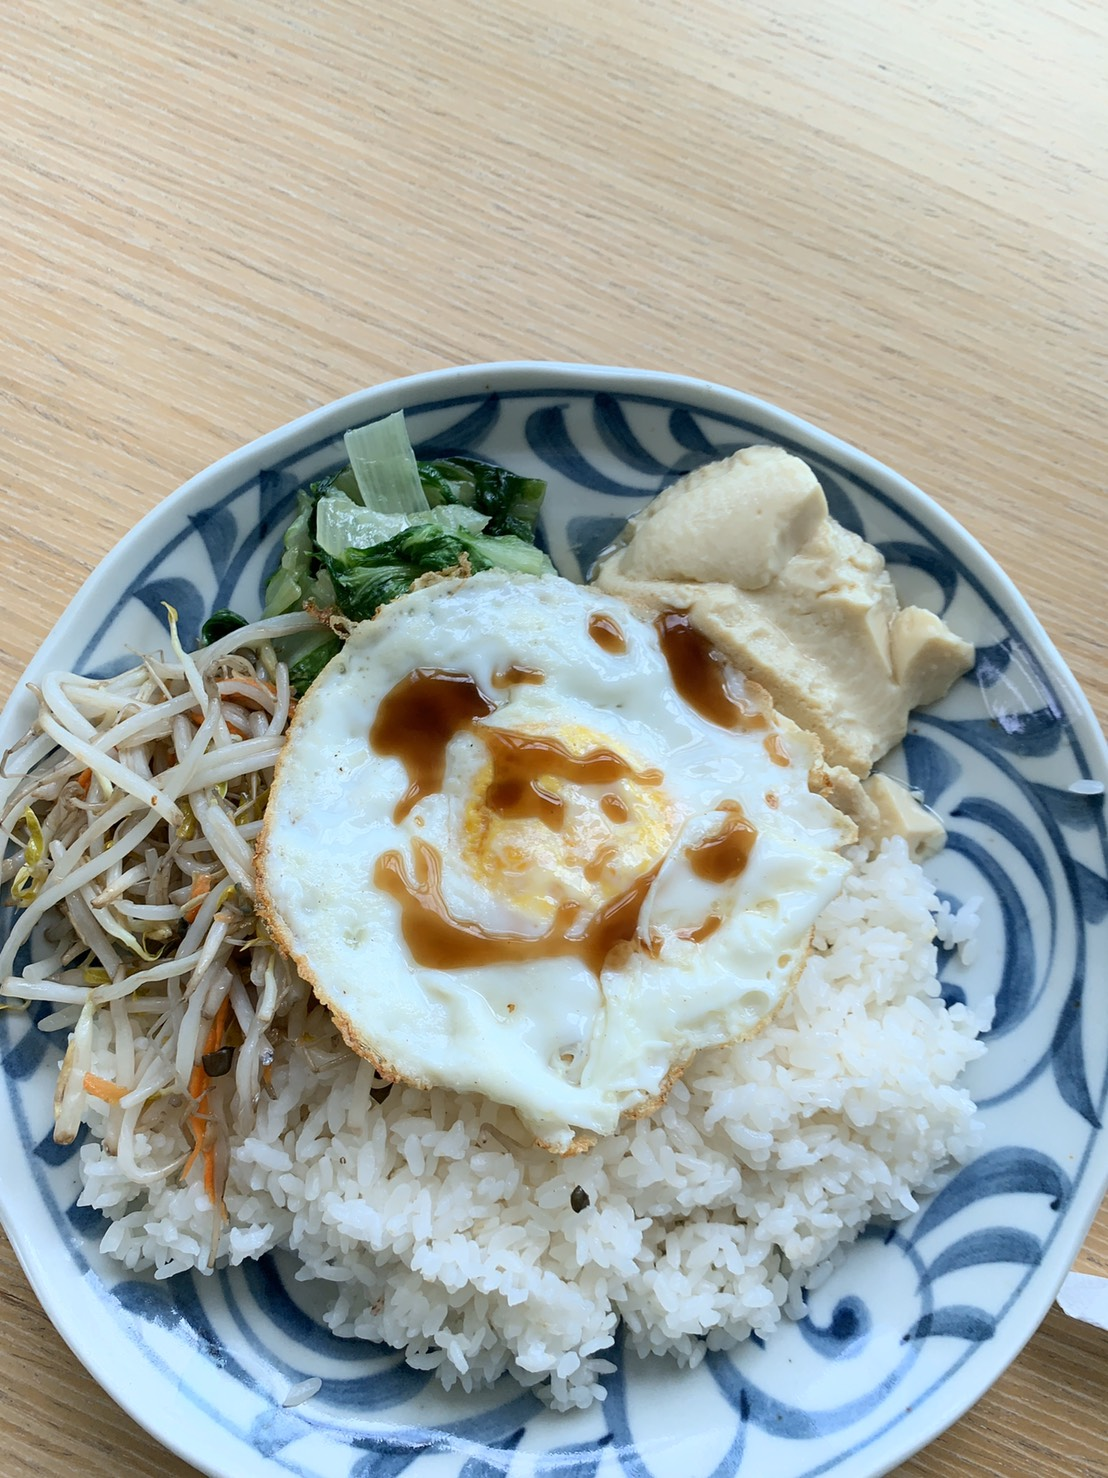mung_bean_sprouts: (27, 653, 253, 965)
rice: (97, 930, 963, 1367)
